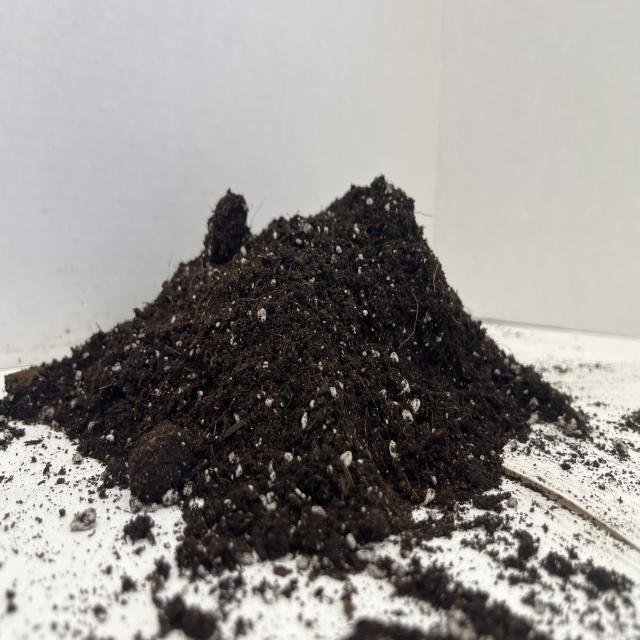soil: (3, 172, 589, 578)
